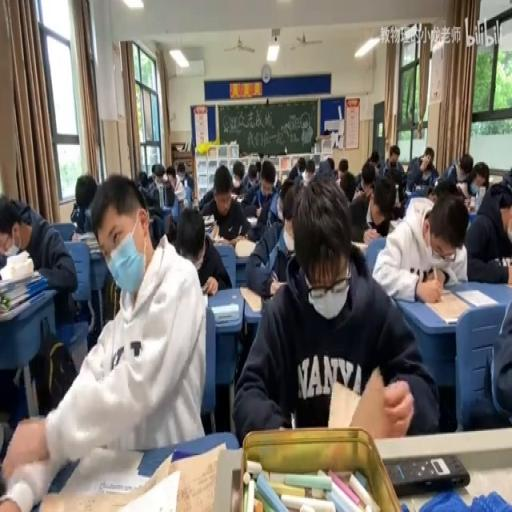calculator: (50, 445, 152, 499), (164, 442, 226, 511), (0, 289, 45, 320), (425, 292, 469, 322), (0, 266, 38, 291), (238, 283, 262, 311), (210, 301, 238, 323), (76, 232, 102, 253), (234, 236, 256, 256), (206, 223, 224, 243), (219, 232, 241, 247), (270, 278, 288, 294), (475, 186, 485, 209), (352, 240, 369, 252), (498, 256, 512, 270), (387, 219, 400, 232), (202, 213, 214, 225), (246, 215, 258, 226), (394, 183, 400, 205), (412, 183, 423, 192), (202, 292, 208, 307), (402, 189, 410, 198), (230, 191, 238, 199)
paper: (234, 176, 432, 442), (0, 187, 78, 432), (462, 270, 510, 432), (465, 168, 512, 279), (198, 165, 250, 247), (350, 169, 398, 243), (245, 220, 287, 296), (134, 165, 166, 236), (69, 174, 98, 233), (406, 145, 436, 192), (382, 144, 406, 194), (238, 158, 261, 200), (430, 176, 460, 202), (338, 170, 354, 204), (260, 160, 275, 188), (280, 176, 296, 202), (282, 202, 295, 232), (182, 170, 194, 200), (361, 165, 374, 192), (458, 154, 473, 175), (474, 166, 487, 190), (303, 158, 315, 183), (444, 164, 458, 184), (165, 165, 176, 189), (152, 165, 166, 183), (164, 212, 174, 235), (501, 168, 510, 189), (296, 155, 306, 172), (369, 149, 379, 165), (69, 202, 78, 219), (136, 171, 146, 186), (338, 158, 347, 173), (326, 155, 334, 169), (354, 182, 363, 193), (255, 161, 261, 175), (176, 169, 183, 181), (322, 128, 330, 134)
person: (386, 452, 470, 494), (200, 278, 210, 292), (260, 294, 264, 312)
